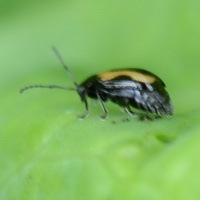insect: (20, 46, 172, 117)
